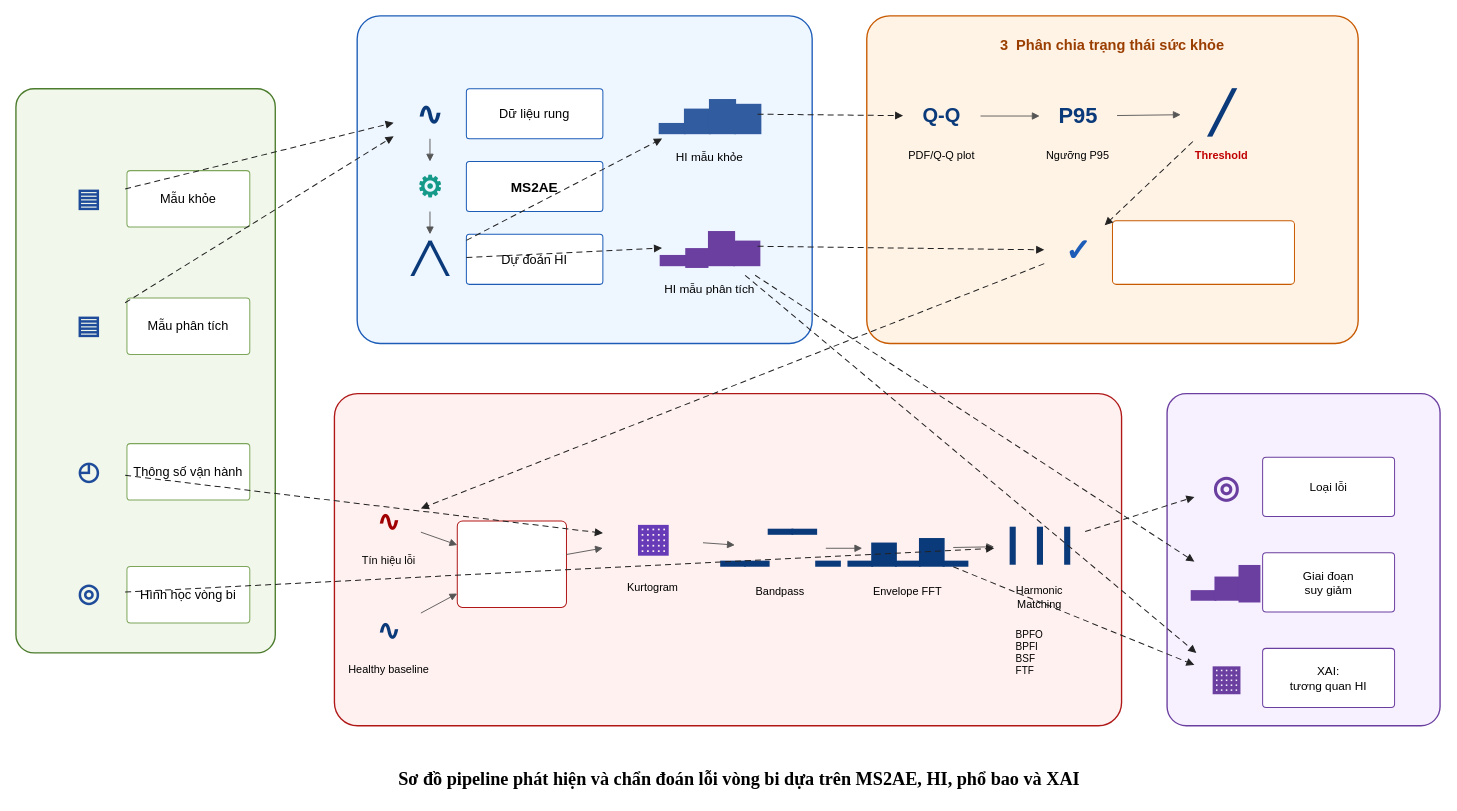
The diagram is 1457 pixels wide and 811 high, and some of its shapes have lost their labels. Here are the shapes that lost their labels. From the top down, the box of each, then its label:
(356, 15, 812, 344): 2 Xây dựng HI
(1112, 220, 1295, 284): FFP: 5 HI liên tiếp vượt ngưỡng
(15, 88, 276, 653): 1 Dữ liệu đầu vào
(456, 520, 567, 608): DTW Δx(t)
(333, 392, 1122, 726): 4 Xử lý tín hiệu và chẩn đoán lỗi
(1166, 392, 1440, 726): 5 Kết quả & XAI
